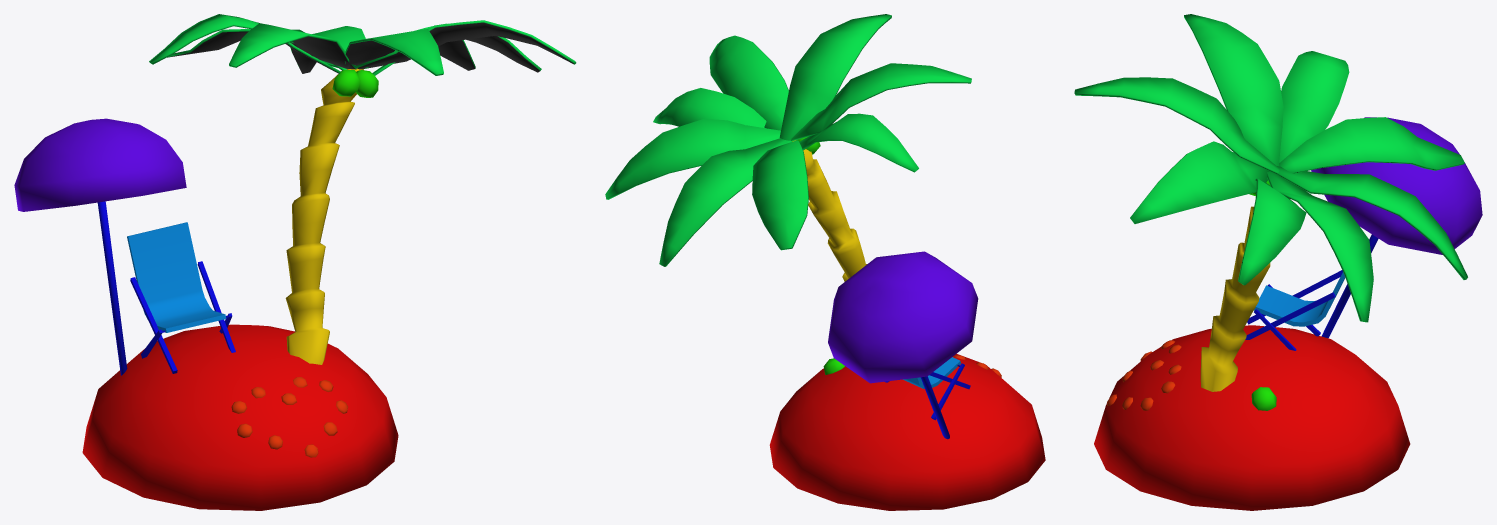
Rendered from Playa.fbx.
3 views of the same model, side by side, from view 1: azimuth 30°, elevation 25°; view 2: azimuth 150°, elevation 25°; view 3: azimuth 270°, elevation 25° (orthographic). The views are drawn at different scales.
Visible parts, largest first — view 1: Sultry Reef.002; view 2: Sultry Reef.002; view 3: Sultry Reef.002.
Boxes of the visible parts, x1,y1,x2,y2 form: Sultry Reef.002: (14, 14, 576, 510); Sultry Reef.002: (605, 14, 1045, 510); Sultry Reef.002: (1074, 14, 1482, 510).
Size of the model in its own units: 4.1 by 3.73 by 3.31.
